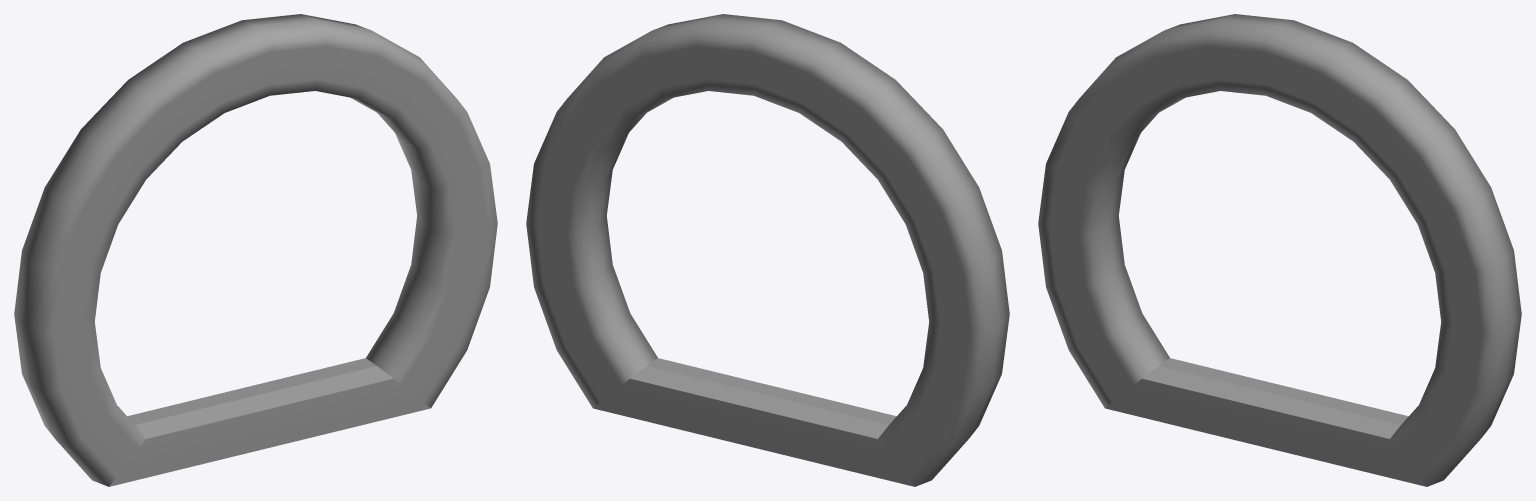
File: DoorOpen.fbx
3 views of the same model, side by side, from view 1: azimuth 30°, elevation 25°; view 2: azimuth 150°, elevation 25°; view 3: azimuth 330°, elevation 25° (orthographic).
Parts seen in each view (by area): view 1: Torus002; view 2: Torus002; view 3: Torus002.
Boxes of the visible parts, x1,y1,x2,y2 form: Torus002: (14,14,497,486); Torus002: (526,14,1009,486); Torus002: (1038,14,1521,486).
Bounding box in the file's own units: 161 × 137 × 16.99.
1 material, 1 textured.
